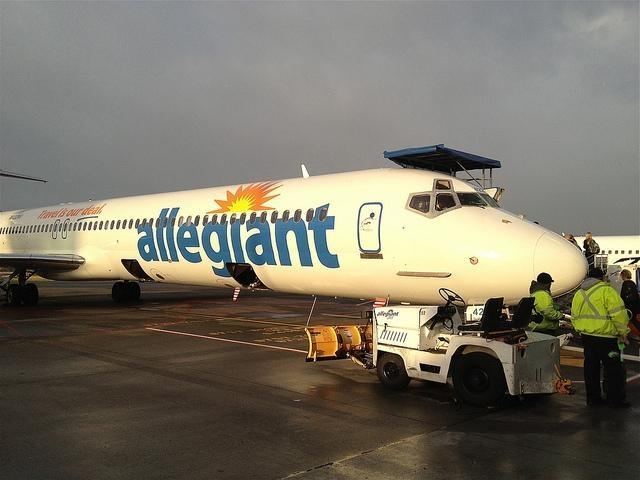truck: (372, 300, 562, 416)
